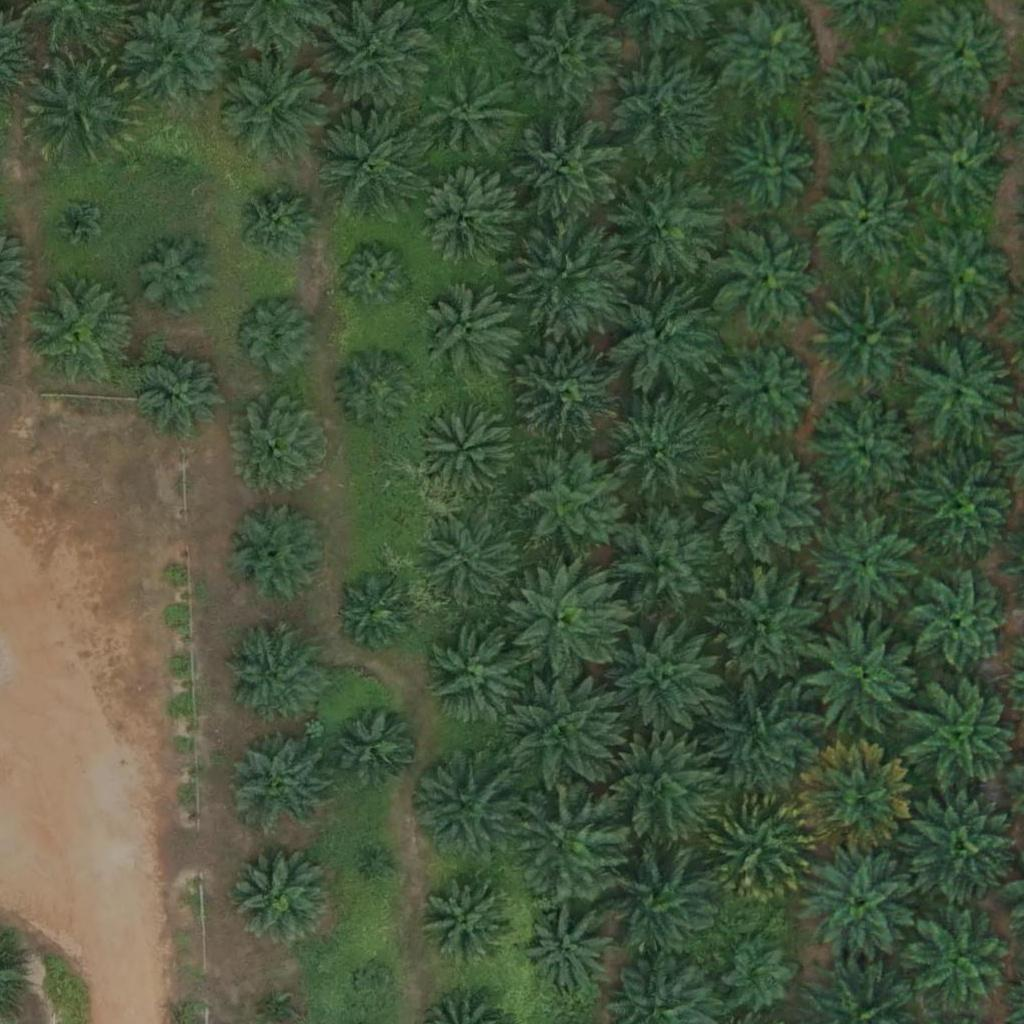Kelapa_Sawit: (314, 99, 427, 213), (409, 750, 522, 864), (605, 49, 718, 162), (511, 3, 624, 116), (219, 50, 332, 163), (513, 221, 626, 334), (514, 338, 627, 451), (610, 169, 723, 282), (607, 283, 720, 396), (601, 394, 714, 507), (609, 509, 722, 622), (709, 449, 822, 562), (712, 563, 825, 676), (711, 681, 824, 794), (902, 336, 1015, 449), (904, 909, 1017, 1022), (800, 742, 913, 855), (702, 791, 815, 904), (802, 843, 915, 956), (511, 114, 623, 228), (24, 275, 136, 389), (509, 678, 621, 792), (603, 848, 715, 962), (512, 784, 624, 898), (23, 51, 135, 164), (509, 447, 621, 560), (508, 568, 620, 681), (611, 620, 723, 733), (714, 223, 826, 336), (809, 162, 921, 275), (816, 289, 928, 402), (809, 395, 921, 508), (809, 514, 921, 627), (806, 620, 918, 733), (909, 454, 1021, 567), (910, 678, 1022, 791), (903, 791, 1015, 904), (600, 735, 712, 848), (911, 3, 1011, 104), (911, 120, 1011, 221), (815, 57, 915, 158), (718, 114, 818, 215), (222, 622, 322, 723), (414, 171, 514, 272), (420, 283, 520, 384), (415, 401, 515, 502), (720, 340, 820, 441), (910, 574, 1010, 675), (230, 733, 330, 834), (228, 841, 328, 942), (422, 66, 522, 166), (232, 396, 332, 496), (227, 503, 327, 603), (425, 515, 525, 615), (427, 628, 527, 728), (912, 224, 1012, 324), (141, 348, 229, 436), (135, 233, 222, 321), (234, 183, 321, 271), (231, 292, 318, 380), (333, 347, 420, 435), (525, 907, 612, 995), (425, 874, 512, 962), (331, 703, 418, 791), (338, 575, 413, 651), (720, 935, 795, 1011), (336, 239, 411, 314), (53, 197, 103, 248), (150, 134, 200, 184), (356, 966, 394, 1004), (369, 851, 394, 876)
